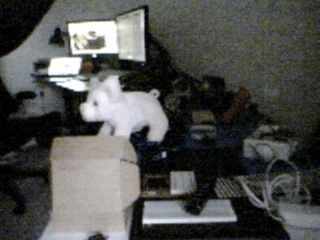piggy: (78, 73, 171, 144)
